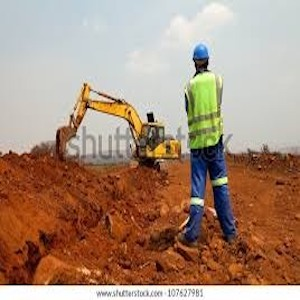safety: (192, 44, 212, 61)
vest: (184, 72, 225, 151)
